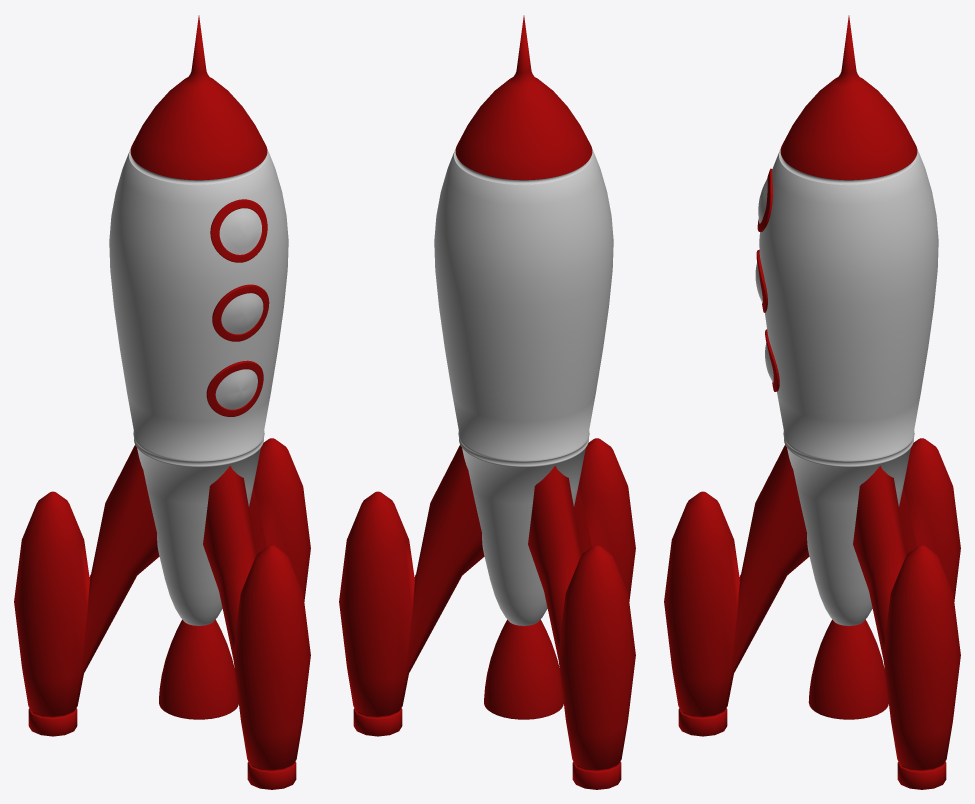
The model's file is rocket.fbx.
3 renders of one model, left to right at view 1: azimuth 30°, elevation 25°; view 2: azimuth 150°, elevation 25°; view 3: azimuth 270°, elevation 25°, orthographic.
Parts seen in each view (by area): view 1: rocket_body, small_engine.2, small_engine, main_engine, small_engine.3, window glass, windows; view 2: rocket_body, small_engine.3, small_engine.2, main_engine, small_engine; view 3: rocket_body, small_engine, small_engine.3, main_engine, small_engine.2, windows, window glass.
Boxes of the visible parts, bbox=[...] form: rocket_body: bbox=[109, 15, 288, 625]; small_engine.2: bbox=[14, 445, 159, 736]; small_engine: bbox=[203, 465, 310, 789]; main_engine: bbox=[159, 619, 238, 719]; small_engine.3: bbox=[249, 438, 310, 601]; window glass: bbox=[215, 208, 263, 409]; windows: bbox=[206, 199, 269, 416]; rocket_body: bbox=[434, 15, 613, 625]; small_engine.3: bbox=[339, 445, 484, 736]; small_engine.2: bbox=[528, 465, 635, 789]; main_engine: bbox=[484, 619, 563, 719]; small_engine: bbox=[574, 438, 635, 601]; rocket_body: bbox=[759, 15, 938, 625]; small_engine: bbox=[664, 445, 809, 736]; small_engine.3: bbox=[853, 465, 960, 789]; main_engine: bbox=[808, 619, 888, 719]; small_engine.2: bbox=[899, 438, 960, 601]; windows: bbox=[756, 168, 779, 391]; window glass: bbox=[755, 179, 773, 382].
Bounding box in the file's own units: 202 × 480 × 181.
